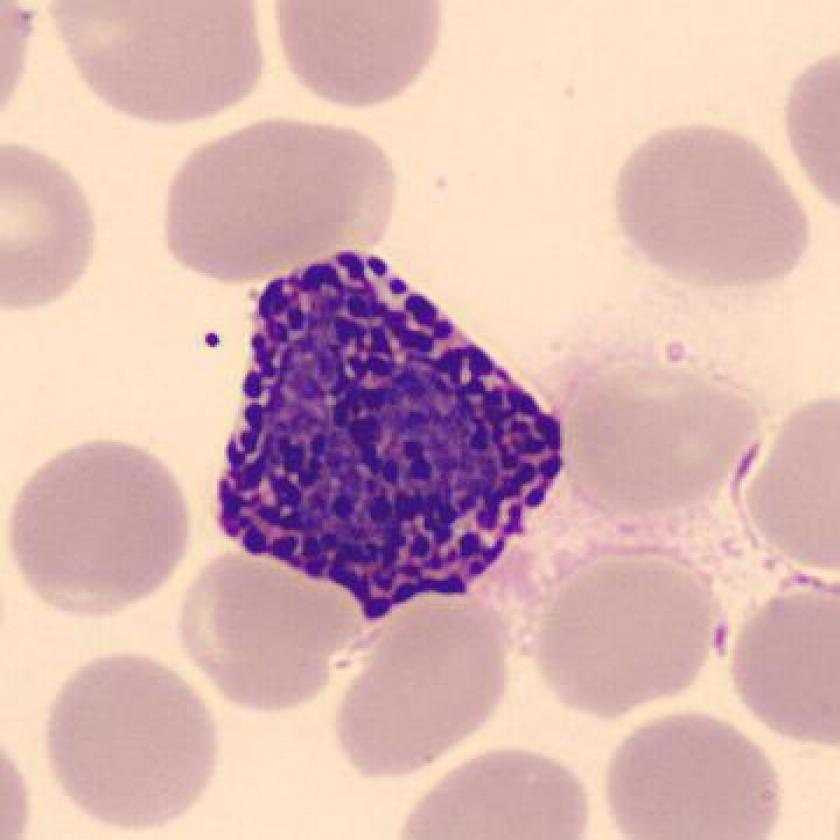basophil: (206, 244, 573, 619)
